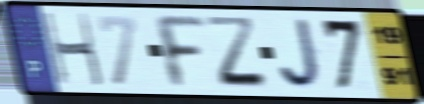7: (95, 14, 142, 88), (321, 17, 365, 92)
F: (149, 12, 209, 91)
H: (40, 11, 107, 89)
J: (276, 17, 327, 92)
Z: (203, 14, 273, 91)
